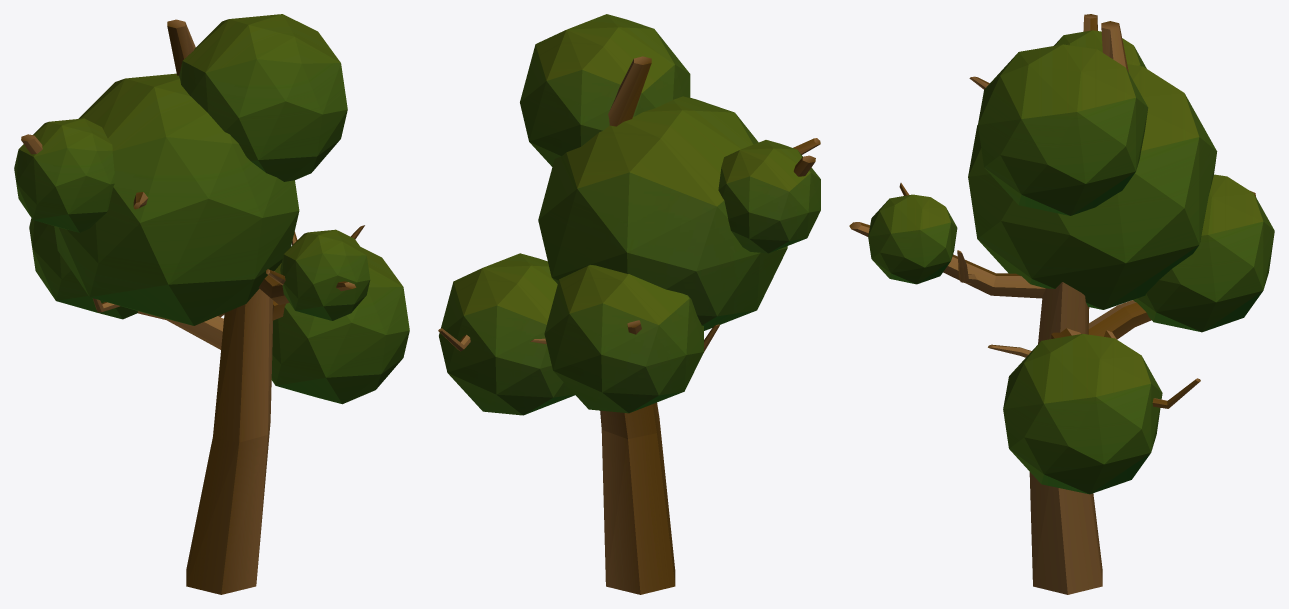
The model's file is tall_Tree.fbx.
3 views of the same model, side by side, from view 1: azimuth 30°, elevation 25°; view 2: azimuth 150°, elevation 25°; view 3: azimuth 270°, elevation 25° (orthographic).
Parts seen in each view (by area): view 1: Leaves_v3_2, Leaves_v3, Base, Leaves_v3_4, Leaves_v3_1, Leaves_v3_5, Leaves_v3_3, Branch04_1, branch01; view 2: Leaves_v3_2, Leaves_v3_3, Leaves_v3_4, Leaves_v3, Base, Leaves_v3_1; view 3: Leaves_v3_2, Leaves_v3, Leaves_v3_4, Leaves_v3_3, Base, Leaves_v3_5, branch01, Branch04_1, Leaves_v3_1.
Part boxes in pixels (x1,y1,x2,y2): Leaves_v3_2: (54, 73, 299, 325); Leaves_v3: (179, 14, 347, 181); Base: (167, 19, 273, 594); Leaves_v3_4: (271, 247, 409, 404); Leaves_v3_1: (14, 118, 114, 232); Leaves_v3_5: (280, 229, 370, 320); Leaves_v3_3: (29, 218, 137, 319); Branch04_1: (137, 311, 223, 349); branch01: (258, 271, 356, 304); Leaves_v3_2: (538, 96, 787, 330); Leaves_v3_3: (544, 265, 703, 413); Leaves_v3_4: (439, 253, 574, 415); Leaves_v3: (520, 14, 690, 166); Base: (600, 56, 675, 594); Leaves_v3_1: (718, 140, 820, 253); Leaves_v3_2: (968, 64, 1217, 309); Leaves_v3: (978, 44, 1148, 215); Leaves_v3_4: (1003, 334, 1162, 494); Leaves_v3_3: (1133, 174, 1274, 332); Base: (1029, 21, 1128, 594); Leaves_v3_5: (868, 194, 957, 284); branch01: (849, 222, 1045, 298); Branch04_1: (1088, 191, 1255, 339); Leaves_v3_1: (1054, 30, 1146, 68).
Bounding box in the file's own units: 1476 × 2069 × 1463.
